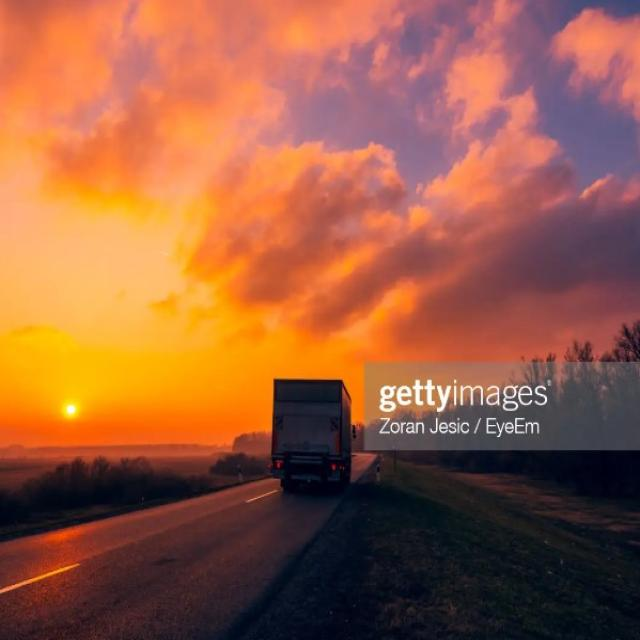truck: (266, 371, 359, 494)
